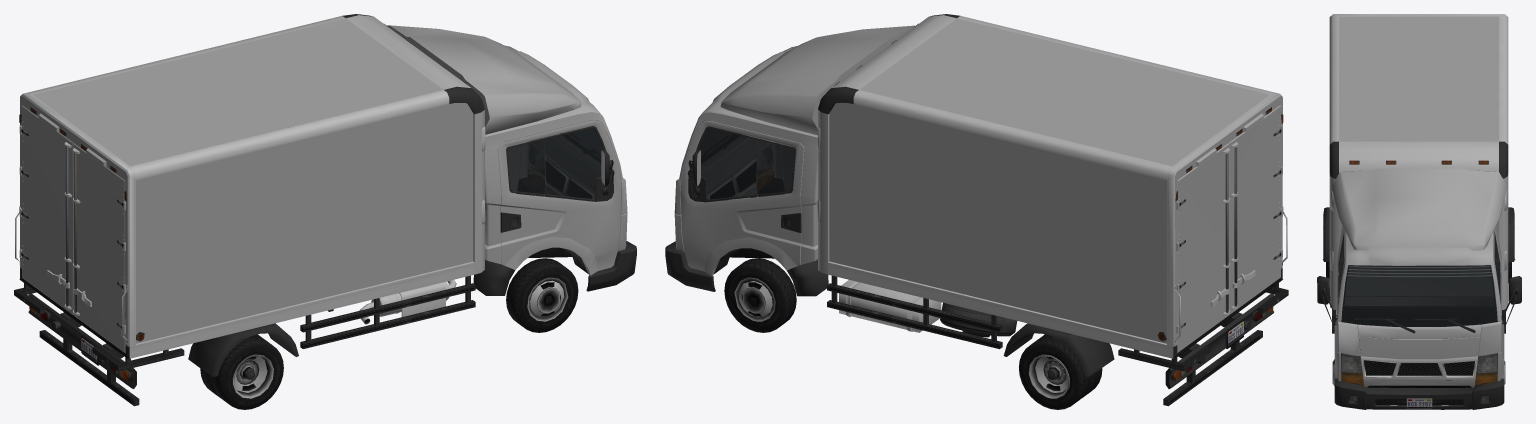
The model's file is truck_lod.gltf.
3 renders of one model, left to right at view 1: azimuth 30°, elevation 25°; view 2: azimuth 150°, elevation 25°; view 3: azimuth 270°, elevation 25°, orthographic. The views are drawn at different scales.
Visible parts, largest first — view 1: LCT300007_Body_LCT13_07_Bodymat_0, LCT300007_Bottom_UCB_BOTTOM_0, LCT300007_Reardoor_Left_LCT13_07_Bodymat_0, LCT300007_Reardoor_Right_LCT13_07_Bodymat_0, LCT300007_Glass_Driver_UCB_Lights_and_Glass_Transperent_0, LCT300007_WheelStock_FR_RB1c_Tire_1k_0, LCT300007_WheelStock_RR_RB1c_Tire_1k_0, LCT300007_Bumper_rear_UCB_BOTTOM_0, LCT300007_BUMPER_FRONT_UCB_BOTTOM_0, LCT300007_Reardoor_Left_Inner_UCB_BOTTOM_0, LCT300007_Reardoor_Right_Inner_UCB_BOTTOM_0; view 2: LCT300007_Body_LCT13_07_Bodymat_0, LCT300007_Bottom_UCB_BOTTOM_0, LCT300007_Reardoor_Right_LCT13_07_Bodymat_0, LCT300007_Reardoor_Left_LCT13_07_Bodymat_0, LCT300007_Glass_Driver_UCB_Lights_and_Glass_Transperent_0, LCT300007_WheelStock_FR_RB1c_Tire_1k_0, LCT300007_WheelStock_RL_RB1c_Tire_1k_0, LCT300007_Bumper_rear_UCB_BOTTOM_0, LCT300007_BUMPER_FRONT_UCB_BOTTOM_0, LCT300007_Reardoor_Right_Inner_UCB_BOTTOM_0, LCT300007_Reardoor_Left_Inner_UCB_BOTTOM_0; view 3: LCT300007_Body_LCT13_07_Bodymat_0, LCT300007_Bottom_UCB_BOTTOM_0, LCT300007_Windshield_UCB_Lights_and_Glass_Transperent_0, LCT300007_BUMPER_FRONT_UCB_BOTTOM_0, LCT300007_Headlight_Glass_UCB_Lights_and_Glass_Transperent_0, LCT300007_Headlights_UCB_Lights_and_Glass_0, LCT300007_BUMPER_FRONT_INNER_UCB_BOTTOM_0, LCT300007_Taillights_Glass_UCB_Lights_and_Glass_Transperent_, LCT300007_Blinkers_UCB_Lights_and_Glass_0, LCT300007_Numberplate_front_Numberplates_Misk_U_0, LCT300007_Glass_Driver_UCB_Lights_and_Glass_Transperent_0.
Boxes of the visible parts, x1=… form: LCT300007_Body_LCT13_07_Bodymat_0: x1=19, y1=18, x2=627, y2=346; LCT300007_Bottom_UCB_BOTTOM_0: x1=14, y1=14, x2=620, y2=406; LCT300007_Reardoor_Left_LCT13_07_Bodymat_0: x1=22, y1=105, x2=73, y2=314; LCT300007_Reardoor_Right_LCT13_07_Bodymat_0: x1=73, y1=143, x2=125, y2=353; LCT300007_Glass_Driver_UCB_Lights_and_Glass_Transperent_0: x1=508, y1=128, x2=610, y2=199; LCT300007_WheelStock_FR_RB1c_Tire_1k_0: x1=506, y1=258, x2=578, y2=332; LCT300007_WheelStock_RR_RB1c_Tire_1k_0: x1=200, y1=334, x2=283, y2=409; LCT300007_Bumper_rear_UCB_BOTTOM_0: x1=28, y1=293, x2=136, y2=388; LCT300007_BUMPER_FRONT_UCB_BOTTOM_0: x1=516, y1=179, x2=636, y2=291; LCT300007_Reardoor_Left_Inner_UCB_BOTTOM_0: x1=21, y1=128, x2=71, y2=309; LCT300007_Reardoor_Right_Inner_UCB_BOTTOM_0: x1=72, y1=148, x2=125, y2=328; LCT300007_Body_LCT13_07_Bodymat_0: x1=674, y1=18, x2=1282, y2=346; LCT300007_Bottom_UCB_BOTTOM_0: x1=681, y1=14, x2=1288, y2=406; LCT300007_Reardoor_Right_LCT13_07_Bodymat_0: x1=1228, y1=105, x2=1280, y2=315; LCT300007_Reardoor_Left_LCT13_07_Bodymat_0: x1=1177, y1=143, x2=1228, y2=352; LCT300007_Glass_Driver_UCB_Lights_and_Glass_Transperent_0: x1=699, y1=128, x2=794, y2=199; LCT300007_WheelStock_FR_RB1c_Tire_1k_0: x1=724, y1=258, x2=796, y2=332; LCT300007_WheelStock_RL_RB1c_Tire_1k_0: x1=1019, y1=334, x2=1102, y2=409; LCT300007_Bumper_rear_UCB_BOTTOM_0: x1=1165, y1=293, x2=1274, y2=388; LCT300007_BUMPER_FRONT_UCB_BOTTOM_0: x1=665, y1=179, x2=785, y2=291; LCT300007_Reardoor_Right_Inner_UCB_BOTTOM_0: x1=1230, y1=128, x2=1281, y2=309; LCT300007_Reardoor_Left_Inner_UCB_BOTTOM_0: x1=1179, y1=148, x2=1229, y2=328; LCT300007_Body_LCT13_07_Bodymat_0: x1=1331, y1=16, x2=1507, y2=387; LCT300007_Bottom_UCB_BOTTOM_0: x1=1317, y1=14, x2=1521, y2=387; LCT300007_Windshield_UCB_Lights_and_Glass_Transperent_0: x1=1341, y1=265, x2=1497, y2=326; LCT300007_BUMPER_FRONT_UCB_BOTTOM_0: x1=1334, y1=378, x2=1504, y2=409; LCT300007_Headlight_Glass_UCB_Lights_and_Glass_Transperent_0: x1=1341, y1=353, x2=1497, y2=373; LCT300007_Headlights_UCB_Lights_and_Glass_0: x1=1341, y1=353, x2=1497, y2=372; LCT300007_BUMPER_FRONT_INNER_UCB_BOTTOM_0: x1=1350, y1=396, x2=1488, y2=405; LCT300007_Taillights_Glass_UCB_Lights_and_Glass_Transperent_: x1=1341, y1=372, x2=1497, y2=385; LCT300007_Blinkers_UCB_Lights_and_Glass_0: x1=1342, y1=373, x2=1496, y2=384; LCT300007_Numberplate_front_Numberplates_Misk_U_0: x1=1406, y1=398, x2=1432, y2=408; LCT300007_Glass_Driver_UCB_Lights_and_Glass_Transperent_0: x1=1494, y1=236, x2=1500, y2=298.
Size of the model in its own units: 5.86 by 2.84 by 2.42.
6 materials, 5 textured.
